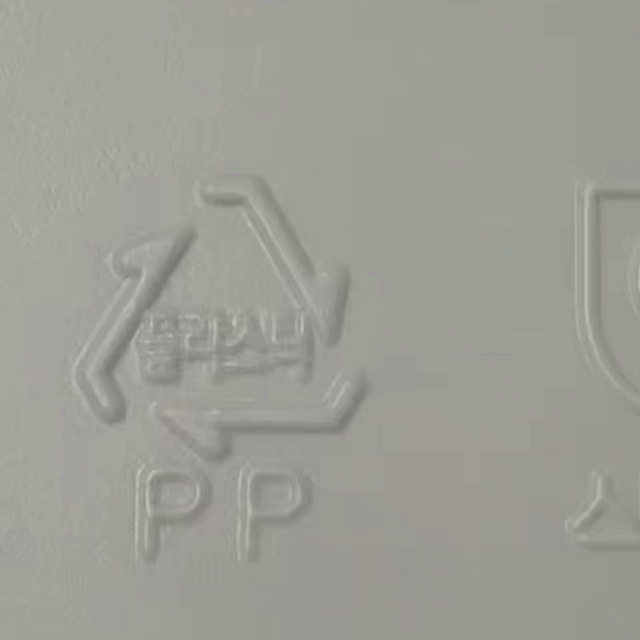Plastic: (68, 179, 371, 465)
